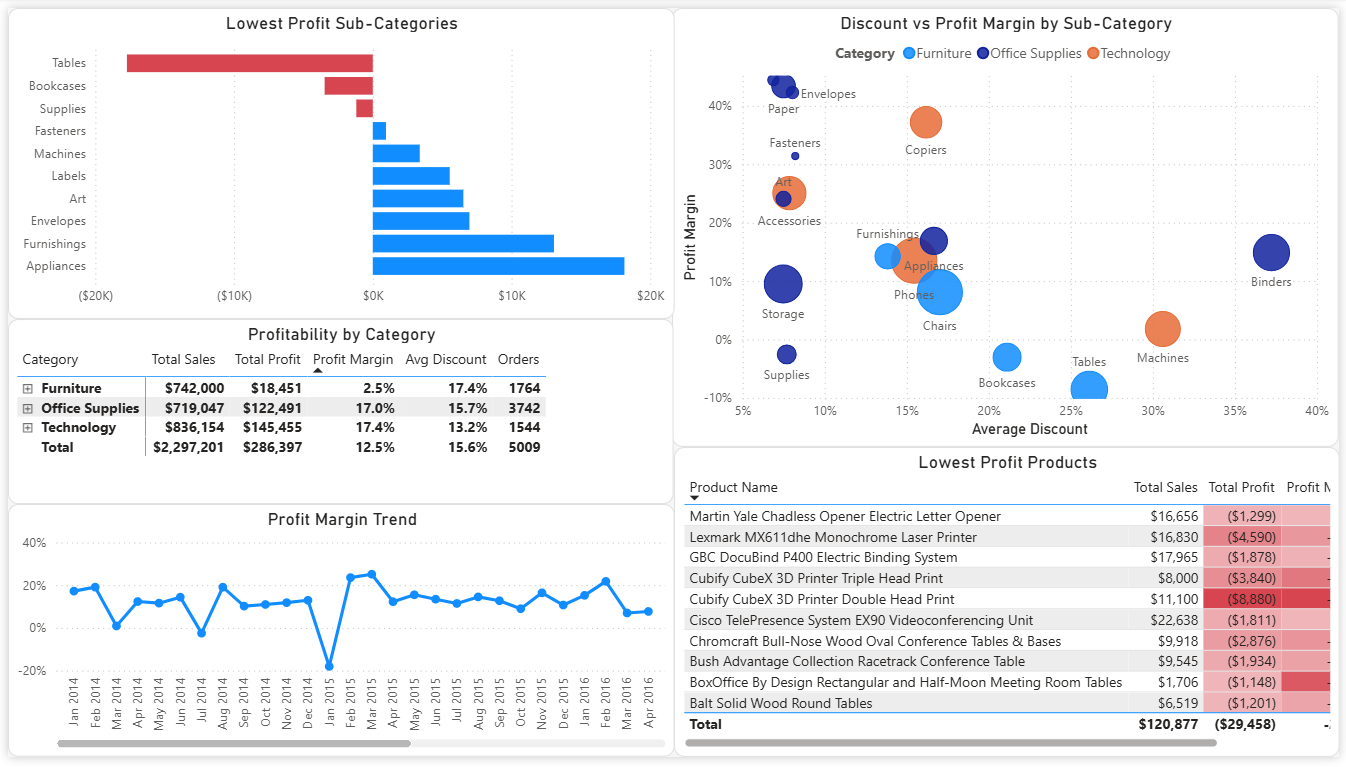

The dashboard page shown, as its layout file describes it:
{"tool":"powerbi","page":{"name":"Profitability Analysis","canvas":[1280,720],"ordinal":1},"visuals":[{"type":"scatterChart","title":"Discount vs Profit Margin by Sub-Category","fields":{"X":["Key Measures.Average Discount"],"Y":["Key Measures.Profit Margin"],"Size":["Key Measures.Total Sales"],"Series":["Superstore.Category"],"Category":["Superstore.Sub-Category"]},"box":[638.9,0,641.1,422.2],"z":0},{"type":"clusteredBarChart","title":"Lowest Profit Sub-Categories","fields":{"Category":["Superstore.Sub-Category"],"Y":["Key Measures.Total Profit"]},"box":[0,0,640.5,298.6],"z":1000},{"type":"pivotTable","title":"Profitability by Category","fields":{"Rows":["Superstore.Category","Superstore.Sub-Category"],"Values":["Key Measures.Total Sales","Key Measures.Total Profit","Key Measures.Profit Margin","Key Measures.Average Discount","Key Measures.Total Orders"]},"box":[0,298.9,640,177.8],"z":2000},{"type":"lineChart","title":"Profit Margin Trend","fields":{"Category":["Date Table.Year Month"],"Y":["Key Measures.Profit Margin"]},"box":[0,476.7,641.1,243.3],"z":3000},{"type":"tableEx","title":"Lowest Profit Products","fields":{"Values":["Superstore.Product Name","Key Measures.Total Sales","Key Measures.Total Profit","Key Measures.Profit Margin","Key Measures.Average Discount"]},"box":[640,422.2,640,297.8],"z":4000}]}

Visuals, with their boxes in screenshot pixels (x1, y1, x2, y2), scaled from the page's 1280x720 canvas onto the 1346x767 screenshot:
"Discount vs Profit Margin by Sub-Category" scatterChart: [672,0,1345,450]
"Lowest Profit Sub-Categories" clusteredBarChart: [0,0,674,318]
"Profitability by Category" pivotTable: [0,318,673,508]
"Profit Margin Trend" lineChart: [0,508,674,766]
"Lowest Profit Products" tableEx: [673,450,1345,766]
